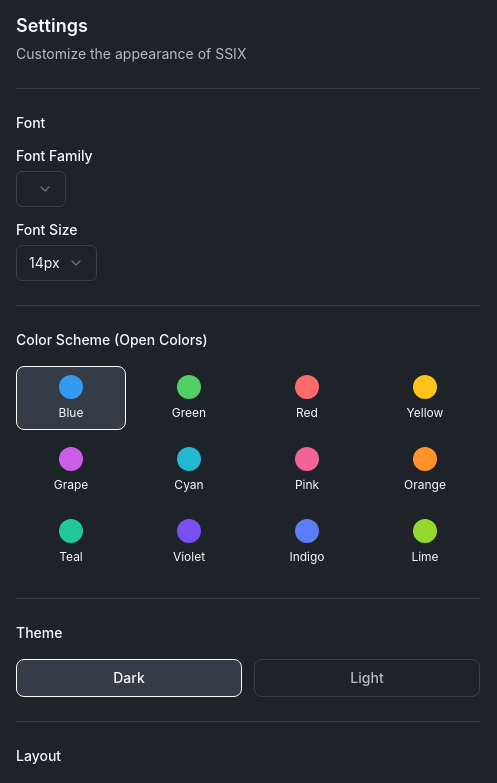
it: SettingsPanel › auto-saves changes and announces Settings saved! via a polite live region
The image size is (497, 783).
Step 1. Click the radio button labelled "light" → (367, 678), box [254,659,480,697]
(page scrolled)
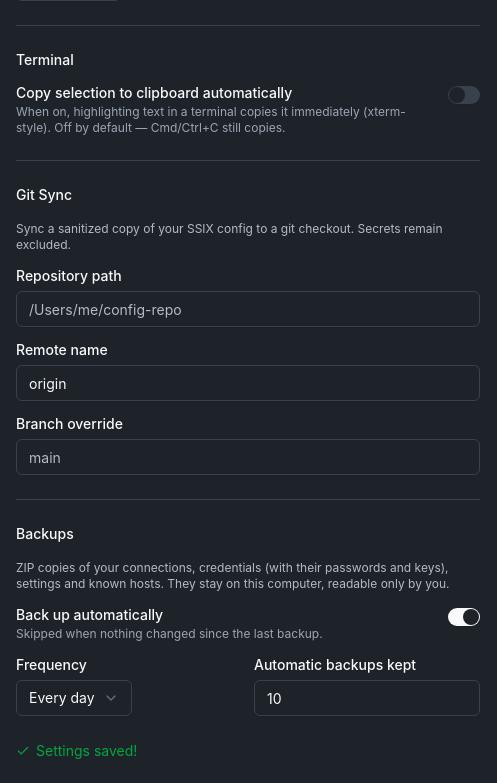
expect the message shows "Settings saved": met, box [36,742,137,759]
